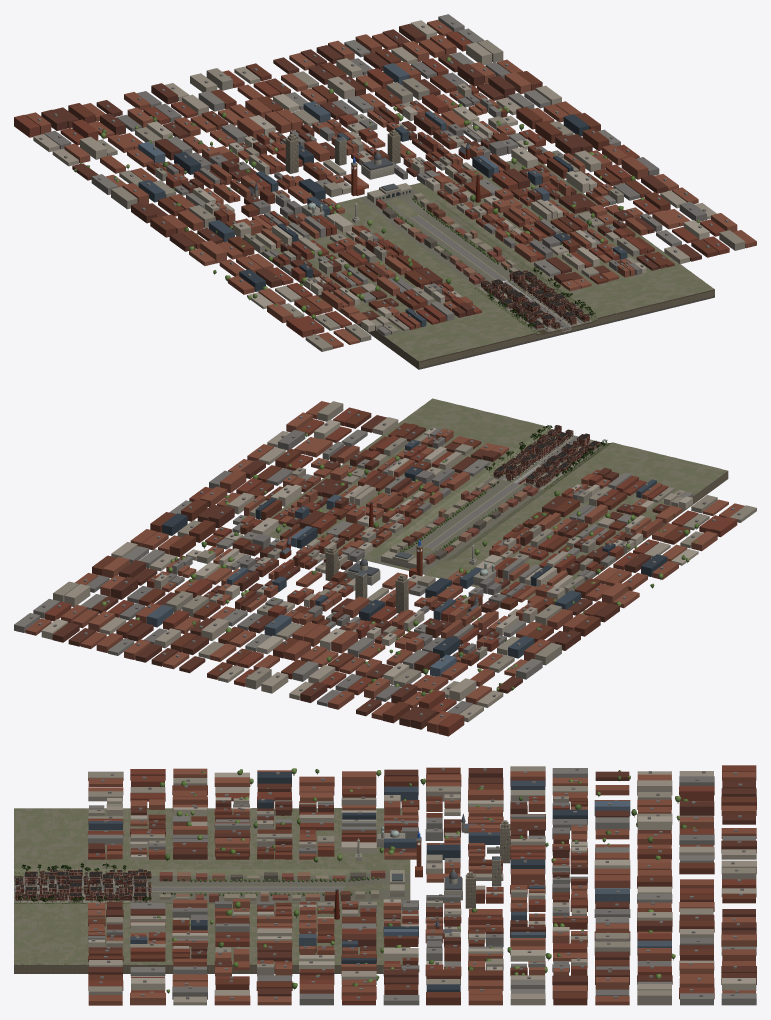
File: jones-falls-1915.glb
The picture shows the model from 3 angles, top to bottom: view 1: azimuth 30°, elevation 25°; view 2: azimuth 150°, elevation 25°; view 3: azimuth 270°, elevation 25°; orthographic projection. The views are drawn at different scales.
Parts seen in each view (by area): view 1: fblk_173, ground_89, ground_0, fpen_174, part_1, vc:brick_109, ground_2, vc:facade_132, vc:ashlar_124, vc:#ffffff|0.90|0_118, vc:sett_114, vc:ashlar_106 (+2 smaller); view 2: fblk_173, ground_89, ground_0, fpen_174, vc:brick_109, ground_2, vc:facade_132, vc:ashlar_124, vc:#ffffff|0.90|0_118, vc:sett_114, vc:ashlar_106, wgl_135 (+1 smaller); view 3: fblk_173, ground_89, ground_0, fpen_174, vc:brick_109, ground_2, vc:#ffffff|0.90|0_118, vc:ashlar_106, vc:facade_132, vc:sett_114, vc:sidewalk_115, wgl_135 (+3 smaller).
Part boxes in pixels (left/top/right/bottom): fblk_173: left=14, top=14, right=756, bottom=351; ground_89: left=252, top=160, right=650, bottom=312; ground_0: left=381, top=262, right=714, bottom=361; fpen_174: left=37, top=22, right=728, bottom=340; part_1: left=381, top=289, right=714, bottom=369; vc:brick_109: left=481, top=270, right=589, bottom=330; ground_2: left=373, top=243, right=676, bottom=333; vc:facade_132: left=285, top=129, right=400, bottom=173; vc:ashlar_124: left=302, top=151, right=412, bottom=223; vc:#ffffff|0.90|0_118: left=482, top=270, right=588, bottom=325; vc:sett_114: left=412, top=216, right=583, bottom=331; vc:ashlar_106: left=481, top=271, right=589, bottom=331; fblk_173: left=14, top=401, right=756, bottom=736; ground_89: left=250, top=445, right=656, bottom=599; ground_0: left=395, top=398, right=727, bottom=496; fpen_174: left=29, top=411, right=740, bottom=717; vc:brick_109: left=493, top=425, right=599, bottom=487; ground_2: left=369, top=426, right=671, bottom=515; vc:facade_132: left=325, top=547, right=408, bottom=613; vc:ashlar_124: left=347, top=545, right=496, bottom=585; vc:#ffffff|0.90|0_118: left=495, top=425, right=598, bottom=482; vc:sett_114: left=425, top=436, right=600, bottom=548; vc:ashlar_106: left=493, top=425, right=599, bottom=488; wgl_135: left=494, top=427, right=599, bottom=486; fblk_173: left=88, top=765, right=756, bottom=1005; ground_89: left=152, top=808, right=410, bottom=964; ground_0: left=14, top=808, right=95, bottom=964; fpen_174: left=91, top=768, right=745, bottom=999; vc:brick_109: left=15, top=869, right=151, bottom=900; ground_2: left=96, top=808, right=151, bottom=964; vc:#ffffff|0.90|0_118: left=15, top=869, right=150, bottom=896; vc:ashlar_106: left=15, top=869, right=151, bottom=902; vc:facade_132: left=465, top=820, right=510, bottom=908; vc:sett_114: left=14, top=876, right=343, bottom=902; vc:sidewalk_115: left=14, top=876, right=345, bottom=902; wgl_135: left=15, top=873, right=150, bottom=900.
Size of what is drawn, in the model's own units: 1274 by 129 by 1724.
Materials: 190 (106 with a texture image).
